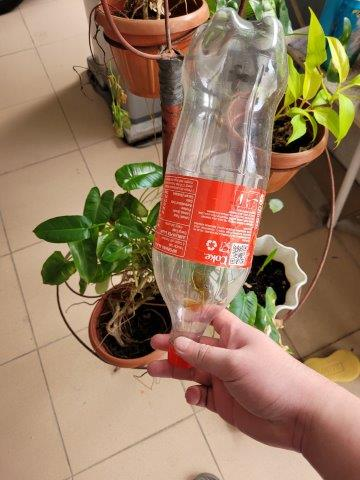botolplastik: (153, 10, 287, 348)
